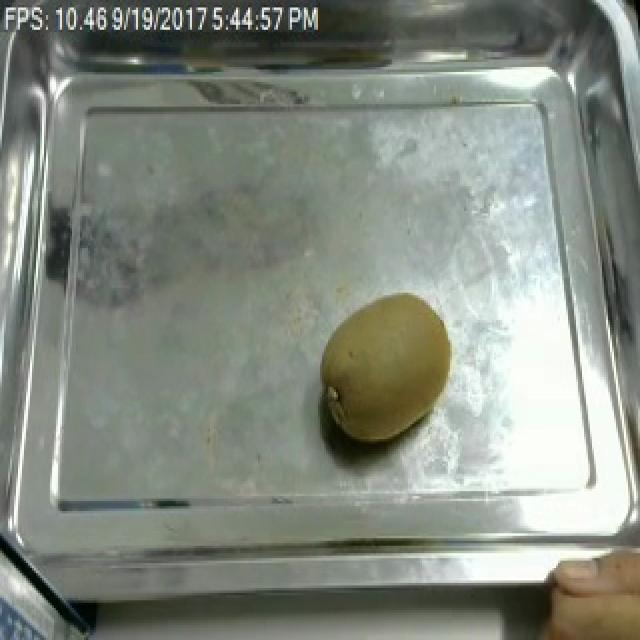Fruit: (314, 283, 462, 451), (512, 533, 640, 640)
